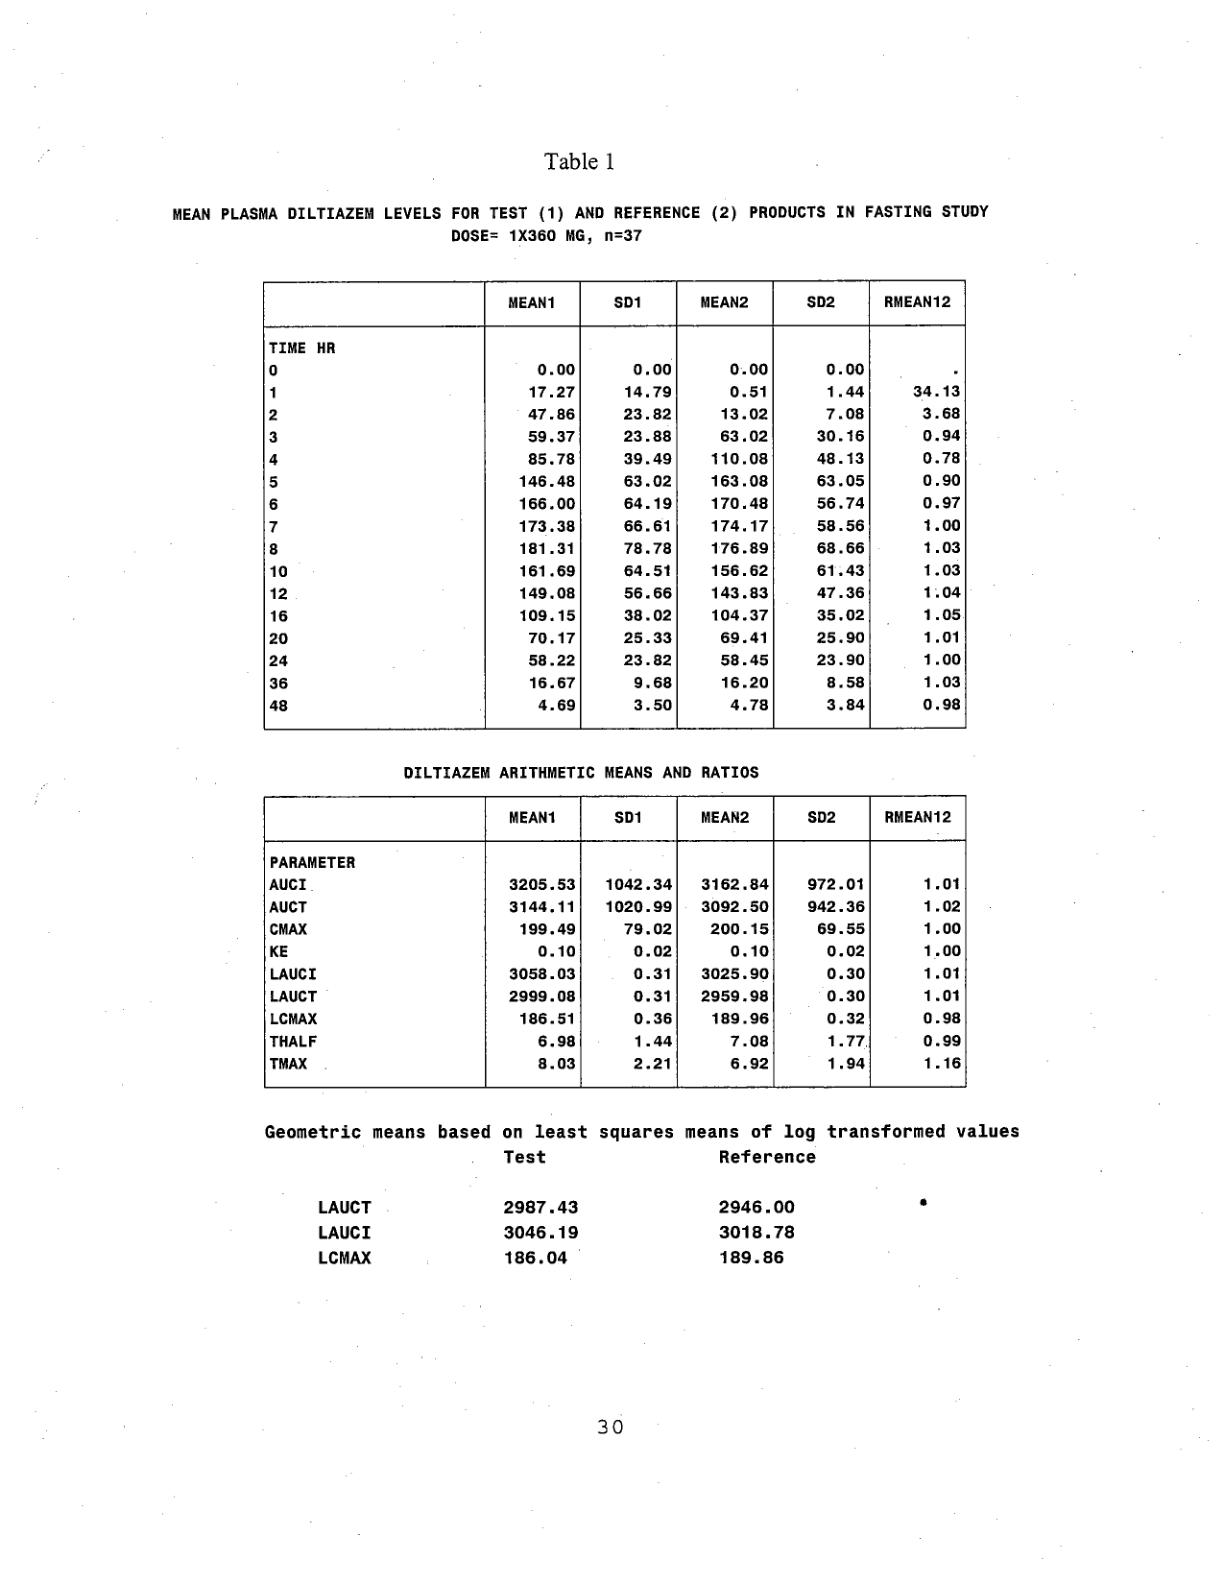full_lined: (262, 278, 968, 732), (262, 793, 968, 1089)
nolines: (316, 1147, 816, 1265)
